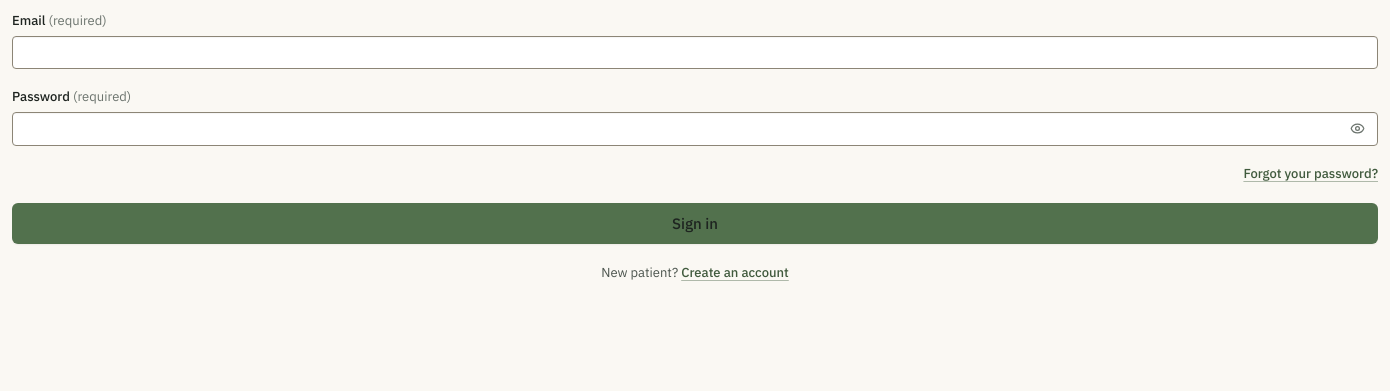
Test case: LoginForm › shows the server error and a verification link for unverified accounts
In the field labelled "Email (required)": (695, 52) [12,36,1378,69], type "asha@example.com"
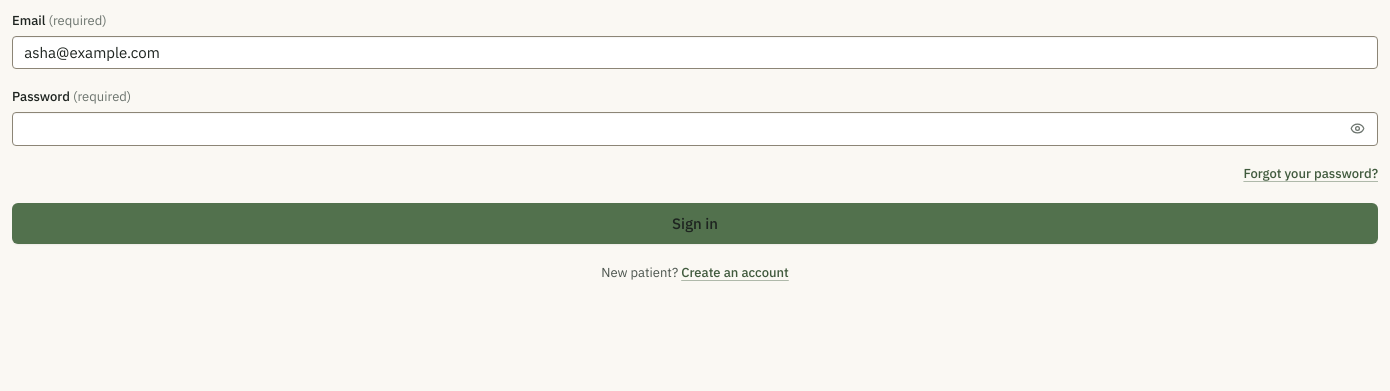
In the password field labelled "Password (required)": (695, 129) [12,112,1378,146], type "whatever"
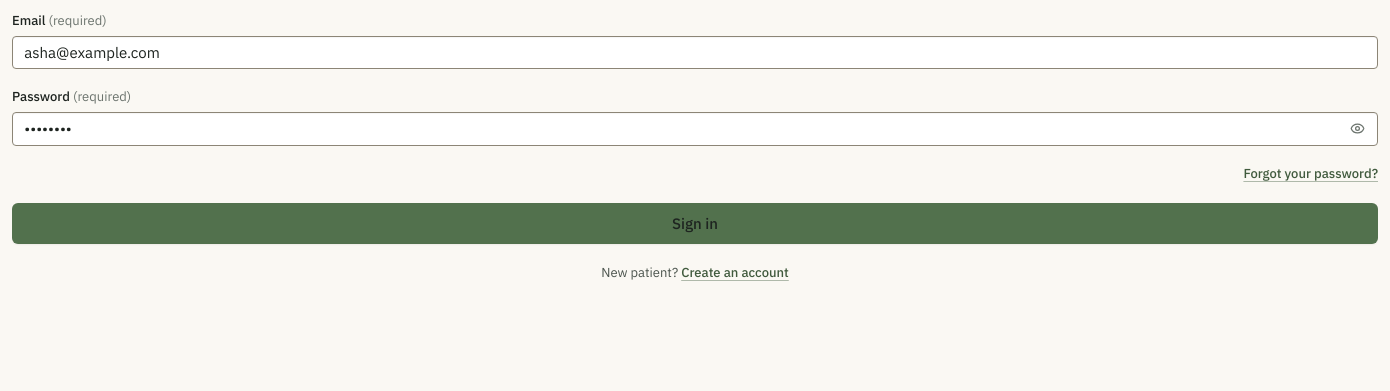
Click the button "Sign in": click(695, 224) [12,203,1378,244]
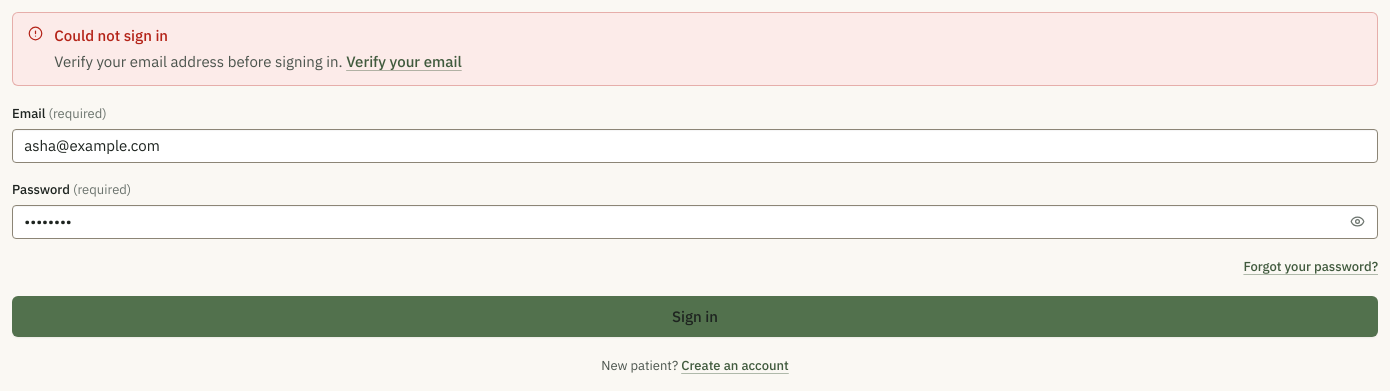
expect the message shows "Verify your email address before signing in.": met, box [54,52,343,71]
